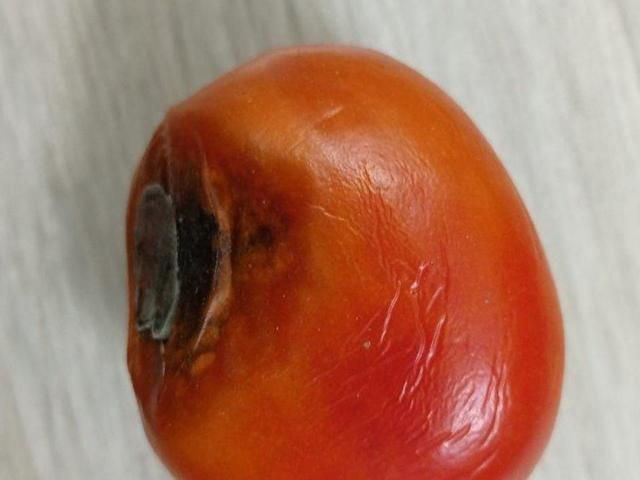defect: (118, 38, 566, 480)
